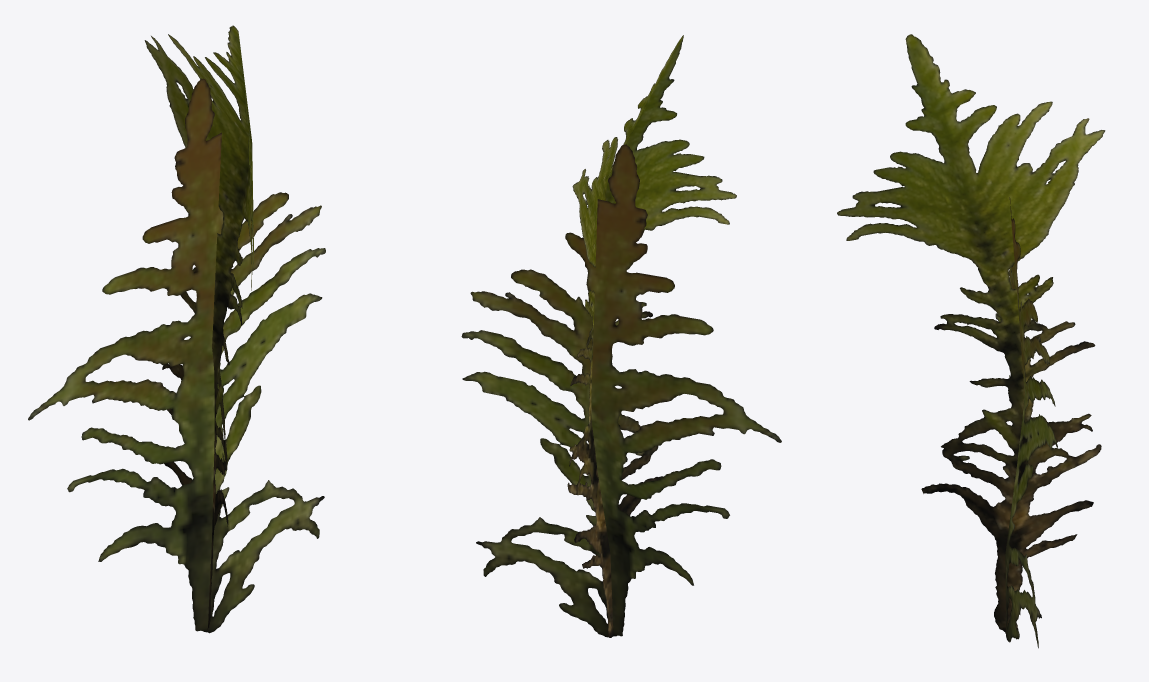
Rendered from Moss_07.fbx.
The picture shows the model from 3 angles, left to right: view 1: azimuth 30°, elevation 25°; view 2: azimuth 150°, elevation 25°; view 3: azimuth 270°, elevation 25°; orthographic projection. The views are drawn at different scales.
Visible parts, largest first — view 1: Moss_07; view 2: Moss_07; view 3: Moss_07.
Boxes of the visible parts, x1=… form: Moss_07: x1=28, y1=25, x2=325, y2=633; Moss_07: x1=461, y1=35, x2=781, y2=637; Moss_07: x1=837, y1=34, x2=1105, y2=648.
Size of the model in its own units: 0.0478 by 0.08 by 0.0352.
1 material, 1 textured.
